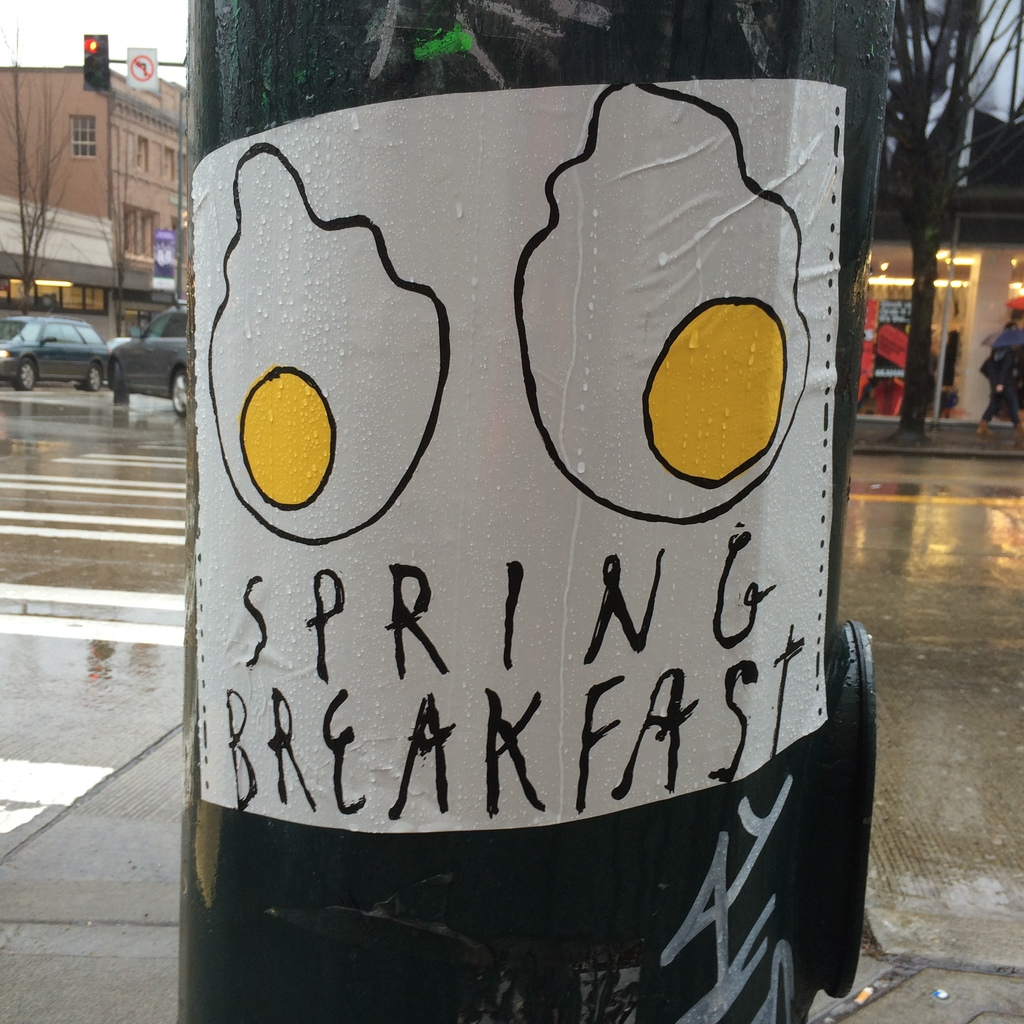Car: (108, 300, 192, 412), (0, 309, 104, 387)
